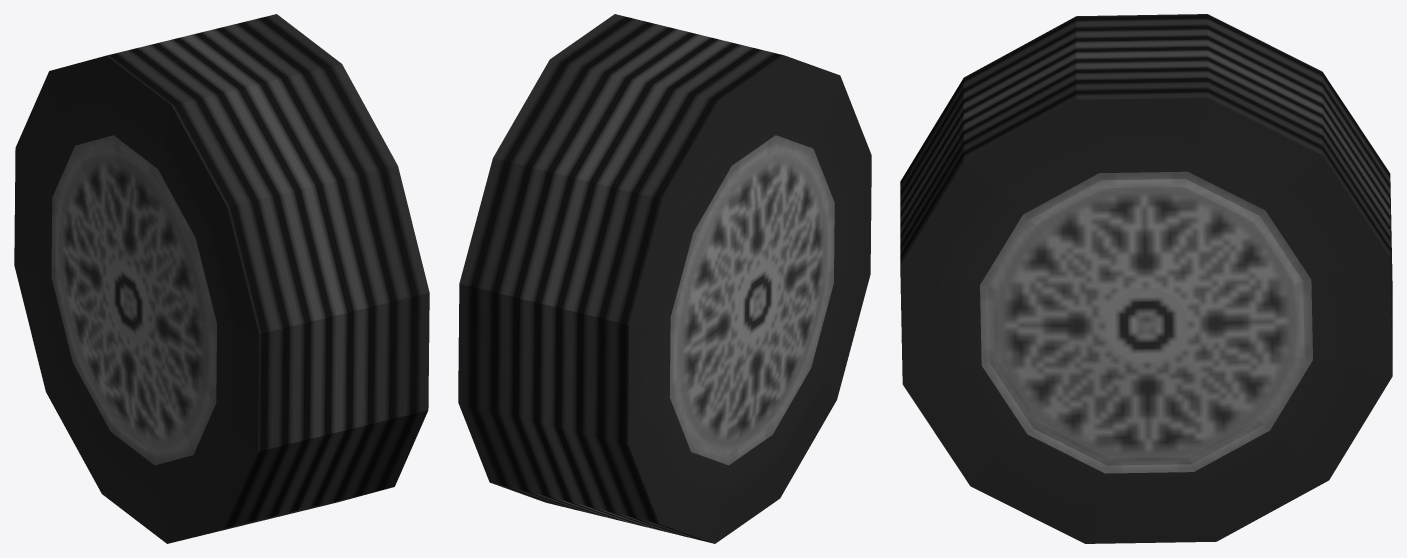
File: ETK2400PostWheelA.fbx
3 renders of one model, left to right at view 1: azimuth 30°, elevation 25°; view 2: azimuth 150°, elevation 25°; view 3: azimuth 270°, elevation 25°, orthographic.
Visible parts, largest first — view 1: GavrilWheel.001; view 2: GavrilWheel.001; view 3: GavrilWheel.001.
Part boxes in pixels (box(x1,y1,x2,y2)): GavrilWheel.001: box(14, 14, 429, 543); GavrilWheel.001: box(458, 14, 871, 543); GavrilWheel.001: box(900, 14, 1392, 543).
Size of the model in its own units: 0.3294 by 0.7456 by 0.7456.
